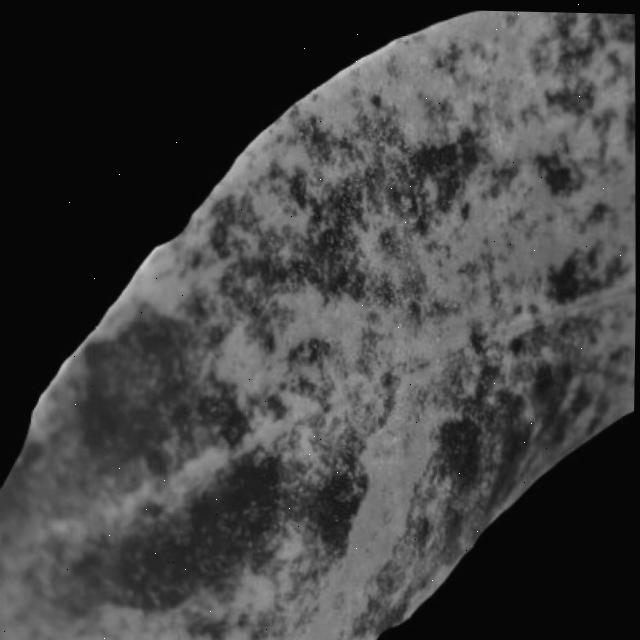mite: (110, 450, 283, 612), (183, 451, 281, 579), (539, 236, 630, 305), (308, 469, 365, 556), (522, 136, 591, 205), (435, 413, 484, 490), (407, 130, 478, 178), (194, 389, 249, 448), (530, 149, 580, 195), (539, 76, 595, 114), (542, 252, 582, 303), (216, 408, 249, 448), (285, 168, 309, 208), (545, 162, 573, 190), (314, 225, 343, 251), (366, 92, 382, 107)
sunburn: (0, 6, 636, 640)
